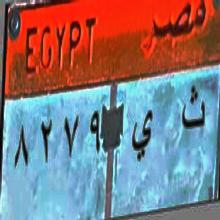2: (36, 116, 56, 176)
7: (61, 111, 80, 167)
8: (13, 120, 30, 178)
9: (88, 105, 102, 162)
thaa: (179, 85, 206, 144)
yaa: (130, 106, 157, 168)
